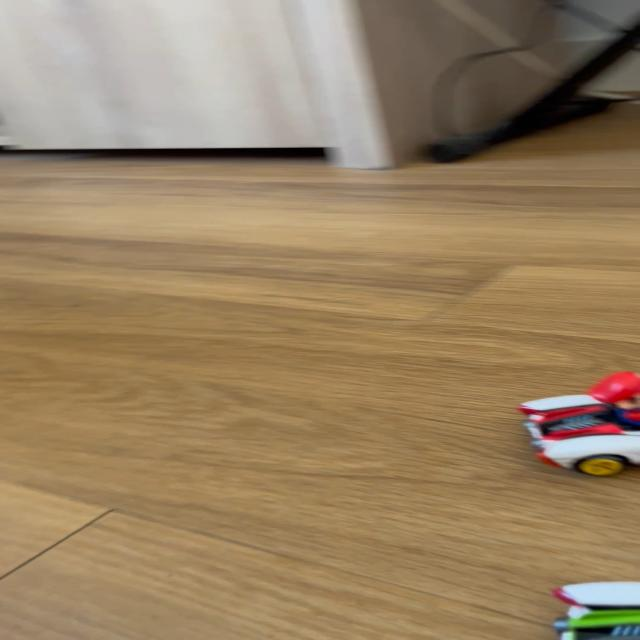mario: (503, 368, 638, 481)
yoshi: (545, 589, 640, 640)
